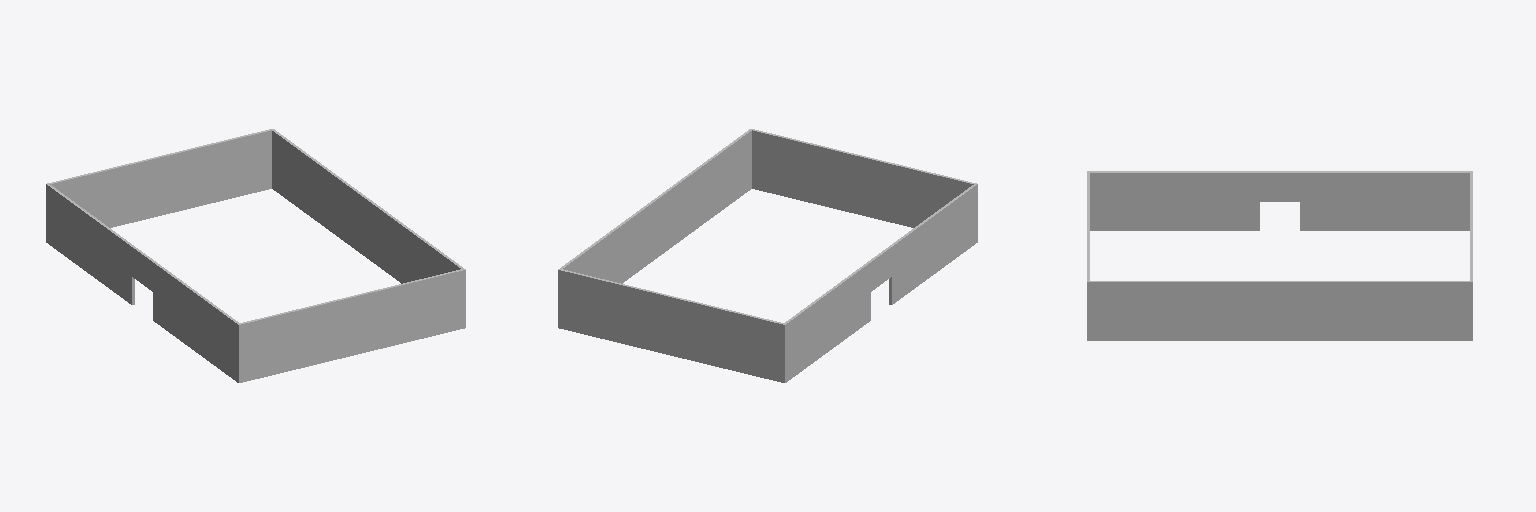
File: BuildingWall.obj
3 renders of one model, left to right at view 1: azimuth 30°, elevation 25°; view 2: azimuth 150°, elevation 25°; view 3: azimuth 270°, elevation 25°, orthographic.
Visible parts, largest first — view 1: Cube.006_Cube.009; view 2: Cube.006_Cube.009; view 3: Cube.006_Cube.009.
Boxes of the visible parts, x1=… form: Cube.006_Cube.009: x1=46, y1=129, x2=465, y2=382; Cube.006_Cube.009: x1=558, y1=129, x2=977, y2=382; Cube.006_Cube.009: x1=1087, y1=171, x2=1472, y2=340.
Bounding box in the file's own units: 20.88 × 5.13 × 30.71.